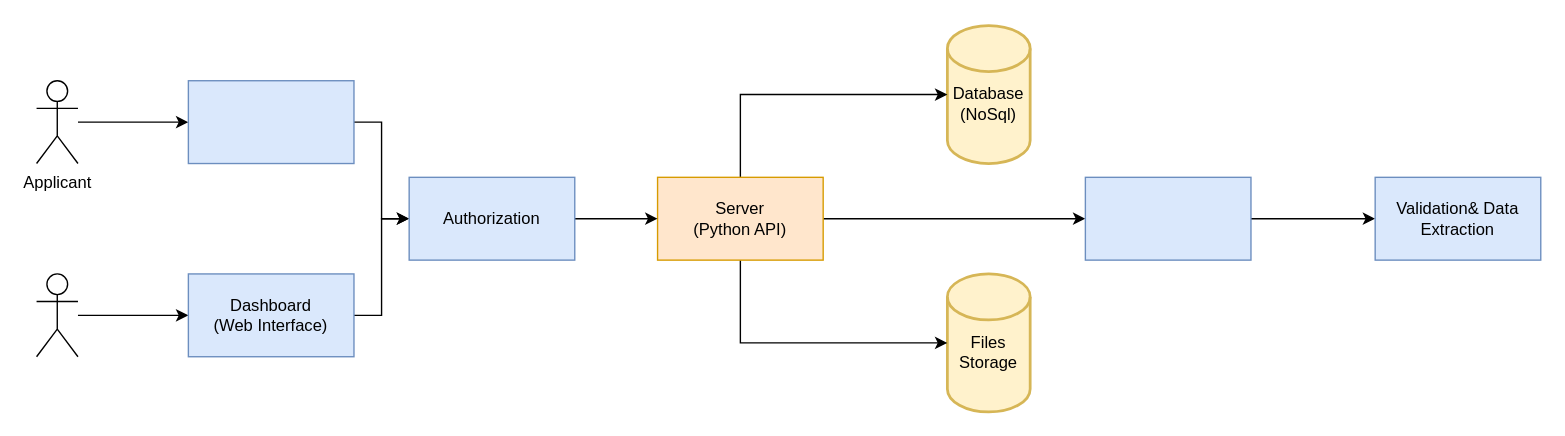
Some shapes in this 1565 by 436 pixel diagram are drawn without their labels. The centre of each missing label's shape, as x and y in pixels:
"Application form (Web interface)" goes at (270,121).
"HR" goes at (56,315).
"Resume Parsing (Pyreparser)" goes at (1167,218).
